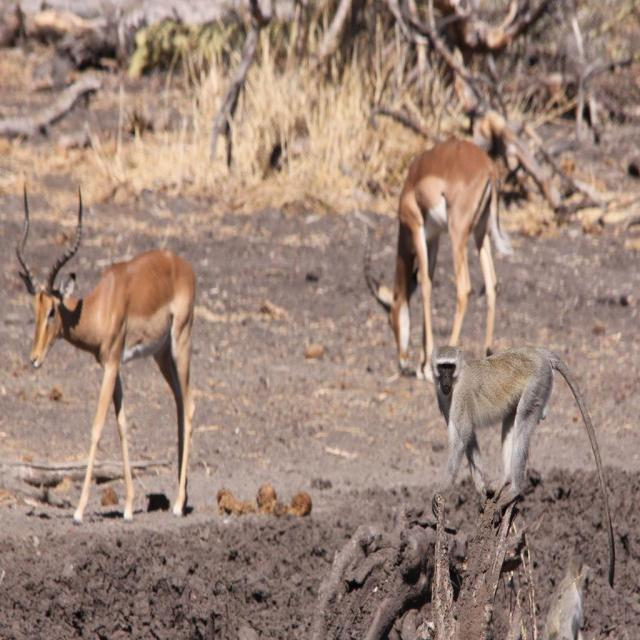Deer: (15, 186, 196, 518), (365, 135, 512, 380)
